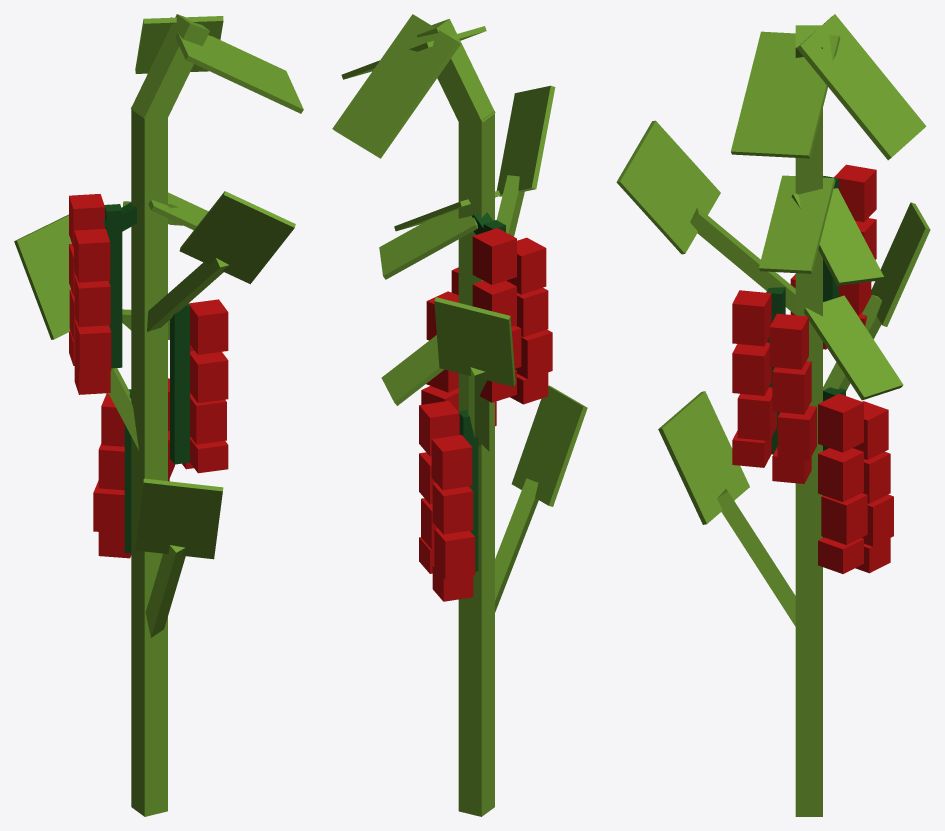
The model's file is asset.gltf.
The picture shows the model from 3 angles, left to right: view 1: azimuth 30°, elevation 25°; view 2: azimuth 150°, elevation 25°; view 3: azimuth 270°, elevation 25°; orthographic projection. The views are drawn at different scales.
Parts seen in each view (by area): view 1: 2f95a8cc-bbbc-db35-044c-f79740e91d66, 3d3684a8-469f-cd9f-9ad0-0c3af5637bec, 923728d6-7e14-abfe-4ef2-f1e9526024a1, 3b1a7608-53c4-af62-febc-fd05c231e23b, 12808d8a-7fcb-d9f8-b484-8383ef2ca720, 1c1d66ed-9e6c-5e8b-8d97-fb99c0bffa9e, 72d5f936-1b90-3225-c6c1-55bc365ce32f, 460db014-a0b4-1400-b203-c438f9941065, 3a6cfa20-1c8c-8196-f0b9-668acd8f6ec1, 655c0ab5-82f5-9d0b-45e9-ba6063061cf5, 4a72571e-9fbe-2ec7-f372-8be7525caeb4, bc48dd88-ebae-43d4-f98c-9e8b577dc689 (+16 smaller); view 2: 2f95a8cc-bbbc-db35-044c-f79740e91d66, 62973c73-a9b2-0740-a452-9221e07f1636, 3b1a7608-53c4-af62-febc-fd05c231e23b, 923728d6-7e14-abfe-4ef2-f1e9526024a1, 3d3684a8-469f-cd9f-9ad0-0c3af5637bec, ab19b075-7ef3-31c9-f50c-b36f17102648, 1c1d66ed-9e6c-5e8b-8d97-fb99c0bffa9e, c633e6a8-42a6-5645-228c-e78a0c26ae9b, 4a72571e-9fbe-2ec7-f372-8be7525caeb4, 5bef9a45-ce1c-1ced-73d4-d9906a71e1f7, c0a478c5-0edd-5e15-7f33-a62c24dce45a, c9404019-3e3f-6717-c3f7-ec278574d07c (+19 smaller); view 3: 2f95a8cc-bbbc-db35-044c-f79740e91d66, 12808d8a-7fcb-d9f8-b484-8383ef2ca720, 62973c73-a9b2-0740-a452-9221e07f1636, 3d3684a8-469f-cd9f-9ad0-0c3af5637bec, 923728d6-7e14-abfe-4ef2-f1e9526024a1, 793fa40c-0e1f-5cbd-f324-745181b0e50e, 5bef9a45-ce1c-1ced-73d4-d9906a71e1f7, ab19b075-7ef3-31c9-f50c-b36f17102648, 3b1a7608-53c4-af62-febc-fd05c231e23b, 3a6cfa20-1c8c-8196-f0b9-668acd8f6ec1, 4a72571e-9fbe-2ec7-f372-8be7525caeb4, 13f28e48-2001-079a-07df-d4a762a0487f (+19 smaller).
Part boxes in pixels (bbox=[...]): 2f95a8cc-bbbc-db35-044c-f79740e91d66: bbox=[131, 106, 167, 816]; 3d3684a8-469f-cd9f-9ad0-0c3af5637bec: bbox=[179, 191, 295, 284]; 923728d6-7e14-abfe-4ef2-f1e9526024a1: bbox=[134, 478, 223, 559]; 3b1a7608-53c4-af62-febc-fd05c231e23b: bbox=[14, 214, 71, 339]; 12808d8a-7fcb-d9f8-b484-8383ef2ca720: bbox=[171, 17, 303, 113]; 1c1d66ed-9e6c-5e8b-8d97-fb99c0bffa9e: bbox=[131, 14, 209, 125]; 72d5f936-1b90-3225-c6c1-55bc365ce32f: bbox=[170, 303, 189, 464]; 460db014-a0b4-1400-b203-c438f9941065: bbox=[104, 204, 122, 368]; 3a6cfa20-1c8c-8196-f0b9-668acd8f6ec1: bbox=[147, 258, 229, 331]; 655c0ab5-82f5-9d0b-45e9-ba6063061cf5: bbox=[188, 299, 228, 354]; 4a72571e-9fbe-2ec7-f372-8be7525caeb4: bbox=[145, 545, 185, 637]; bc48dd88-ebae-43d4-f98c-9e8b577dc689: bbox=[74, 228, 110, 282]; 2f95a8cc-bbbc-db35-044c-f79740e91d66: bbox=[458, 111, 494, 816]; 62973c73-a9b2-0740-a452-9221e07f1636: bbox=[332, 14, 460, 158]; 3b1a7608-53c4-af62-febc-fd05c231e23b: bbox=[434, 297, 515, 386]; 923728d6-7e14-abfe-4ef2-f1e9526024a1: bbox=[511, 385, 587, 506]; 3d3684a8-469f-cd9f-9ad0-0c3af5637bec: bbox=[496, 85, 555, 196]; ab19b075-7ef3-31c9-f50c-b36f17102648: bbox=[379, 209, 477, 279]; 1c1d66ed-9e6c-5e8b-8d97-fb99c0bffa9e: bbox=[416, 19, 495, 129]; c633e6a8-42a6-5645-228c-e78a0c26ae9b: bbox=[472, 228, 516, 284]; 4a72571e-9fbe-2ec7-f372-8be7525caeb4: bbox=[495, 478, 538, 612]; 5bef9a45-ce1c-1ced-73d4-d9906a71e1f7: bbox=[381, 335, 444, 405]; c0a478c5-0edd-5e15-7f33-a62c24dce45a: bbox=[431, 434, 472, 490]; c9404019-3e3f-6717-c3f7-ec278574d07c: bbox=[434, 528, 475, 579]; 2f95a8cc-bbbc-db35-044c-f79740e91d66: bbox=[795, 108, 822, 816]; 12808d8a-7fcb-d9f8-b484-8383ef2ca720: bbox=[731, 31, 840, 158]; 62973c73-a9b2-0740-a452-9221e07f1636: bbox=[797, 14, 926, 160]; 3d3684a8-469f-cd9f-9ad0-0c3af5637bec: bbox=[616, 120, 720, 254]; 923728d6-7e14-abfe-4ef2-f1e9526024a1: bbox=[658, 391, 749, 524]; 793fa40c-0e1f-5cbd-f324-745181b0e50e: bbox=[759, 175, 835, 273]; 5bef9a45-ce1c-1ced-73d4-d9906a71e1f7: bbox=[804, 295, 903, 400]; ab19b075-7ef3-31c9-f50c-b36f17102648: bbox=[791, 188, 883, 285]; 3b1a7608-53c4-af62-febc-fd05c231e23b: bbox=[871, 202, 930, 326]; 3a6cfa20-1c8c-8196-f0b9-668acd8f6ec1: bbox=[690, 207, 795, 314]; 4a72571e-9fbe-2ec7-f372-8be7525caeb4: bbox=[717, 489, 795, 626]; 13f28e48-2001-079a-07df-d4a762a0487f: bbox=[818, 393, 863, 452].
Size of the model in its own units: 0.5965 by 2.02 by 0.7179.
3 materials, 3 textured.
